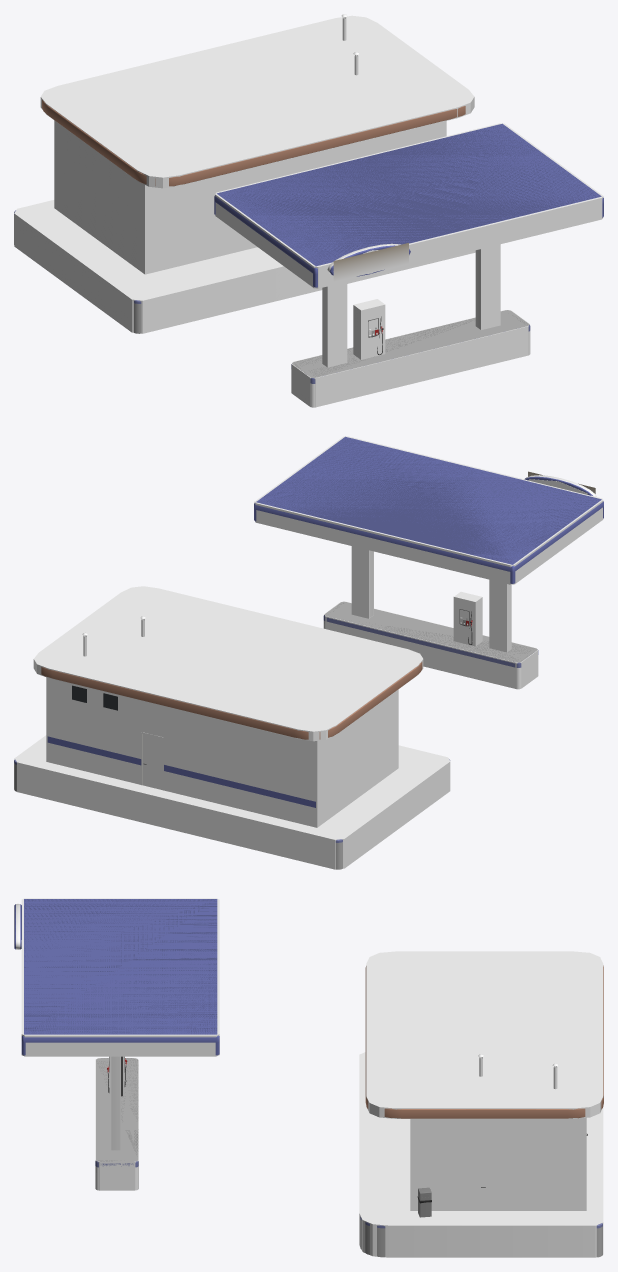
Rendered from hirochi_petrolstation_pump.DAE.
3 views of the same model, one above another, from view 1: azimuth 30°, elevation 25°; view 2: azimuth 150°, elevation 25°; view 3: azimuth 270°, elevation 25° (orthographic). The views are drawn at different scales.
Parts seen in each view (by area): view 1: Colmesh-1, hirochi_petrolstation_pump500, hirochi_petrolstation_pump40; view 2: Colmesh-1, hirochi_petrolstation_pump500, hirochi_petrolstation_pump40; view 3: Colmesh-1, hirochi_petrolstation_pump500, hirochi_petrolstation_pump40.
Boxes of the visible parts, left/top/right/bottom form: Colmesh-1: left=14, top=15, right=603, bottom=407; hirochi_petrolstation_pump500: left=14, top=14, right=603, bottom=407; hirochi_petrolstation_pump40: left=218, top=123, right=599, bottom=376; Colmesh-1: left=14, top=436, right=603, bottom=869; hirochi_petrolstation_pump500: left=14, top=437, right=603, bottom=869; hirochi_petrolstation_pump40: left=72, top=436, right=600, bottom=710; Colmesh-1: left=17, top=898, right=603, bottom=1257; hirochi_petrolstation_pump500: left=14, top=899, right=603, bottom=1257; hirochi_petrolstation_pump40: left=24, top=899, right=217, bottom=1161.
Size of the model in its own units: 13.75 by 19.67 by 7.24.
